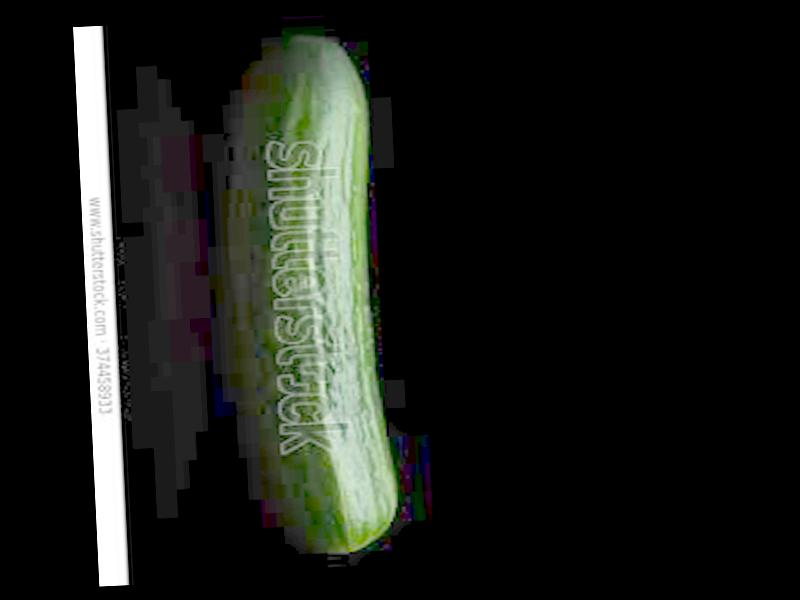Cucumber: (255, 34, 396, 558)
